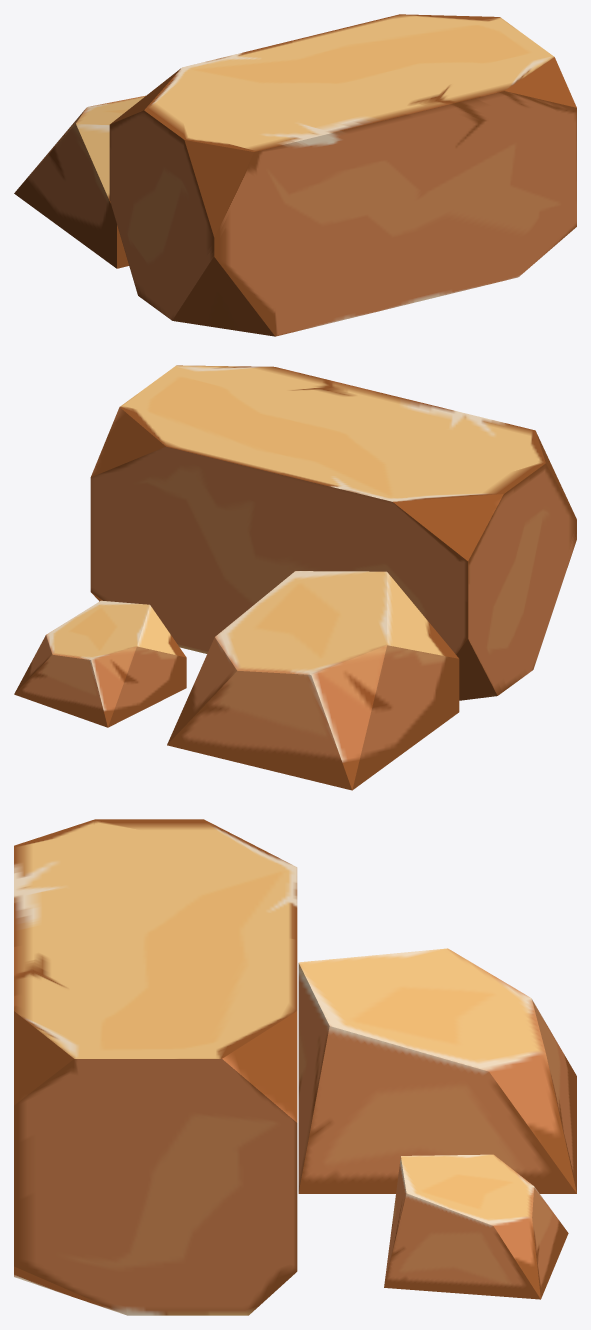
File: Rock_Group_002.fbx
The picture shows the model from 3 angles, top to bottom: view 1: azimuth 30°, elevation 25°; view 2: azimuth 150°, elevation 25°; view 3: azimuth 270°, elevation 25°; orthographic projection. The views are drawn at different scales.
Visible parts, largest first — view 1: Cube, Cube.001; view 2: Cube, Cube.001, Cube.002; view 3: Cube, Cube.001, Cube.002.
Part boxes in pixels (x1=…): Cube: x1=109, y1=14, x2=576, y2=336; Cube.001: x1=14, y1=95, x2=145, y2=268; Cube: x1=90, y1=365, x2=576, y2=700; Cube.001: x1=167, y1=571, x2=459, y2=790; Cube.002: x1=14, y1=600, x2=186, y2=727; Cube: x1=14, y1=819, x2=297, y2=1315; Cube.001: x1=298, y1=948, x2=576, y2=1193; Cube.002: x1=384, y1=1154, x2=568, y2=1299.
Bounding box in the file's own units: 2 × 1 × 1.99.
2 materials, 2 textured.
